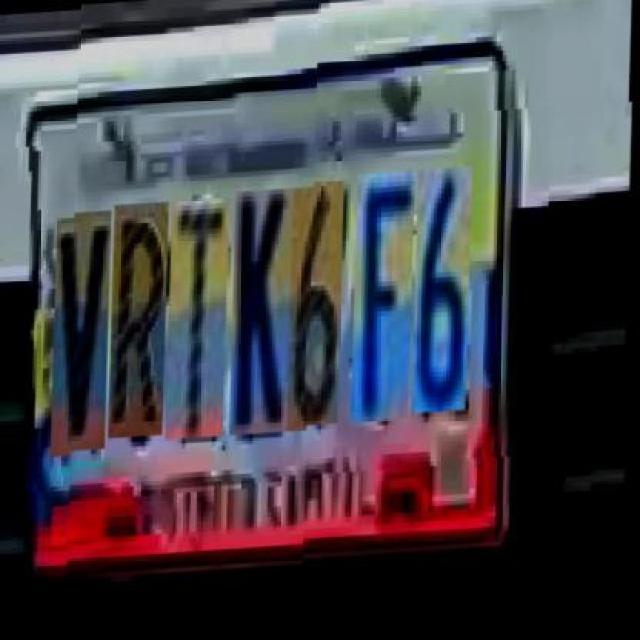6: (414, 173, 474, 419), (289, 184, 346, 430)
f: (353, 177, 416, 428)
k: (232, 188, 296, 434)
r: (111, 198, 171, 436)
t: (168, 196, 230, 436)
v: (54, 207, 114, 448)
